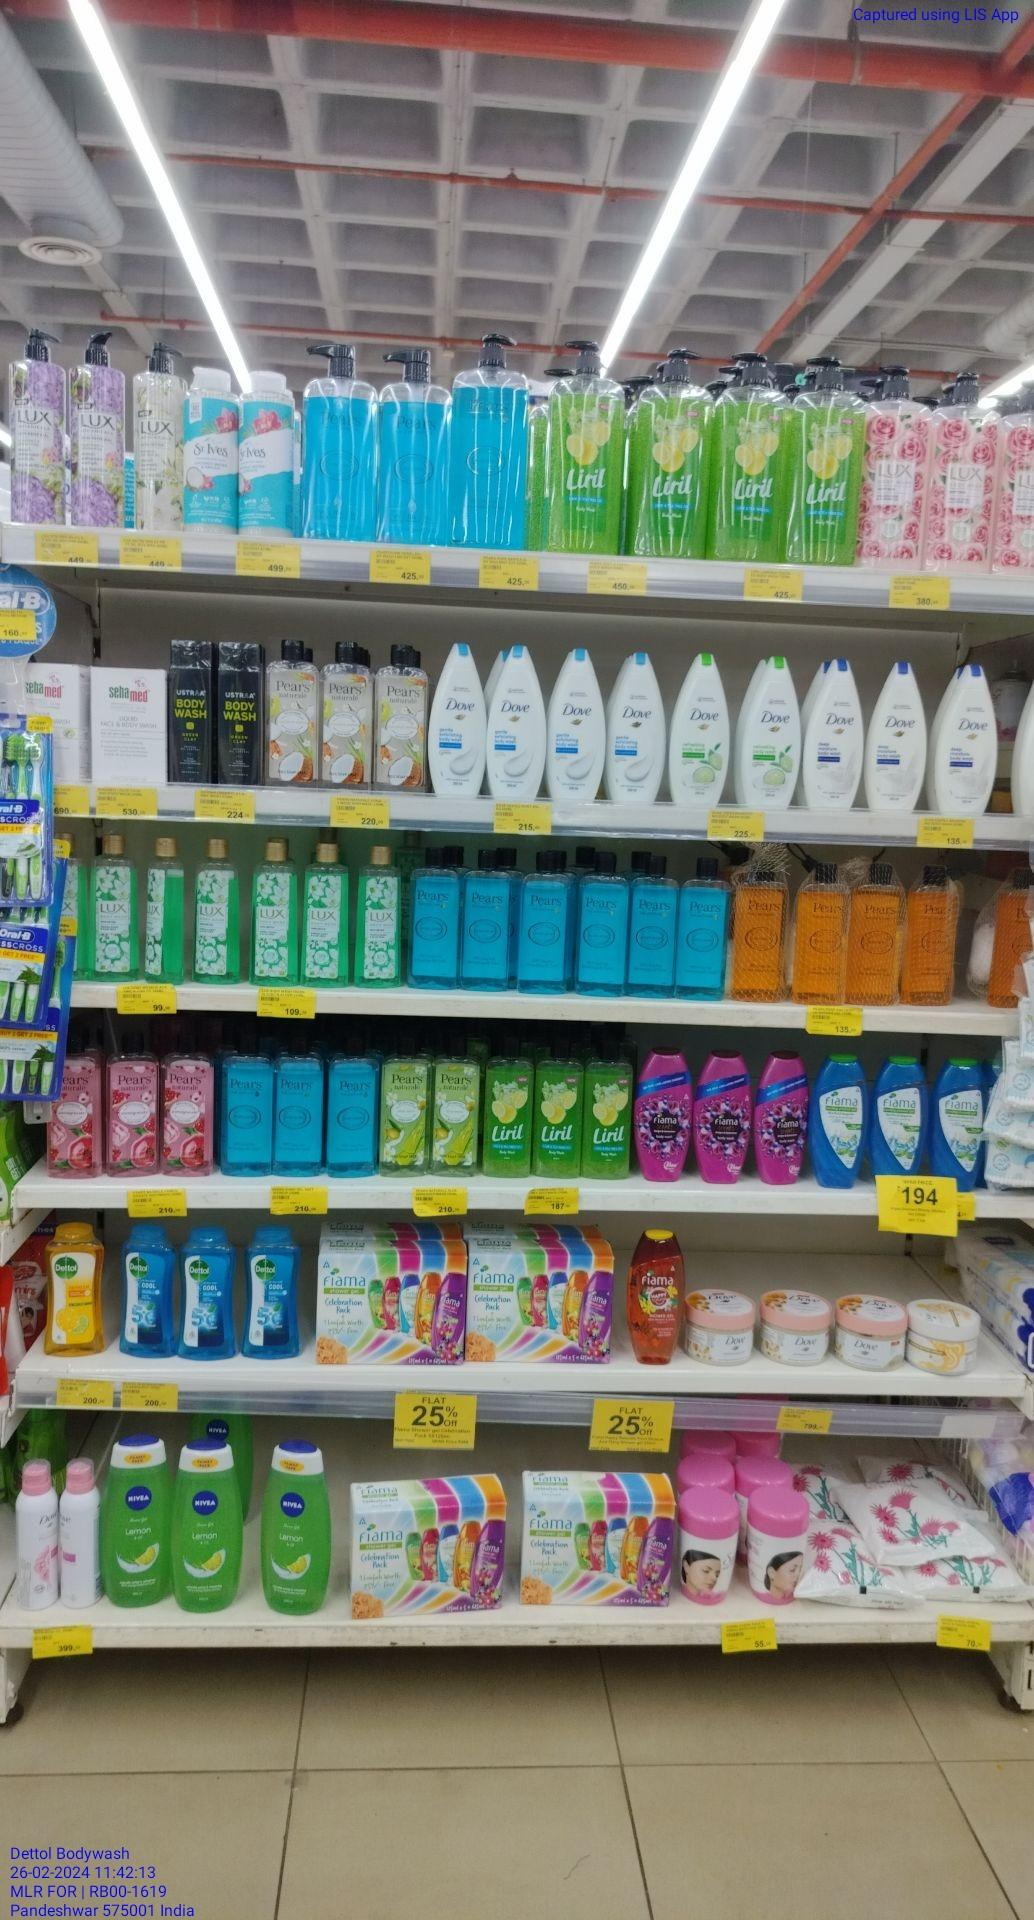Dettol_Bodywash_Cool: (243, 1224, 306, 1359), (177, 1230, 238, 1360), (121, 1221, 176, 1357)
Dettol_Bodywash_Refresh: (43, 1221, 102, 1357)
Dove_Deep_Moisture_Body_Wash_250ML: (862, 658, 930, 812), (933, 661, 1000, 814), (802, 657, 862, 810)
Dove_Gentle_Exfoliating_Body_Wash_250ML: (485, 643, 545, 803), (549, 644, 606, 801), (607, 651, 666, 800), (429, 640, 484, 797)
Dove_Refreshing_Body_Wash_250ML: (737, 653, 800, 810), (671, 649, 728, 806)
Lux_Body_Wash_Skin_Detox_Freesia_Scent_and_Alove_Vera_245ML: (190, 838, 243, 984), (302, 836, 351, 989), (90, 828, 140, 979), (248, 839, 298, 988), (353, 842, 402, 987), (141, 835, 187, 983)
Nivea_Shower_Gel_Lemon_and_Oil_250ML: (261, 1440, 332, 1617), (174, 1435, 242, 1613), (101, 1439, 172, 1606)
Pears_Pure_Glycerin_and_Mint_Extracts_Body_Wash_250ML: (574, 856, 630, 996), (517, 853, 572, 993), (406, 849, 460, 992), (219, 1040, 274, 1179), (675, 859, 728, 1001), (326, 1043, 376, 1179), (276, 1039, 323, 1178), (462, 854, 509, 991), (632, 865, 676, 997)
